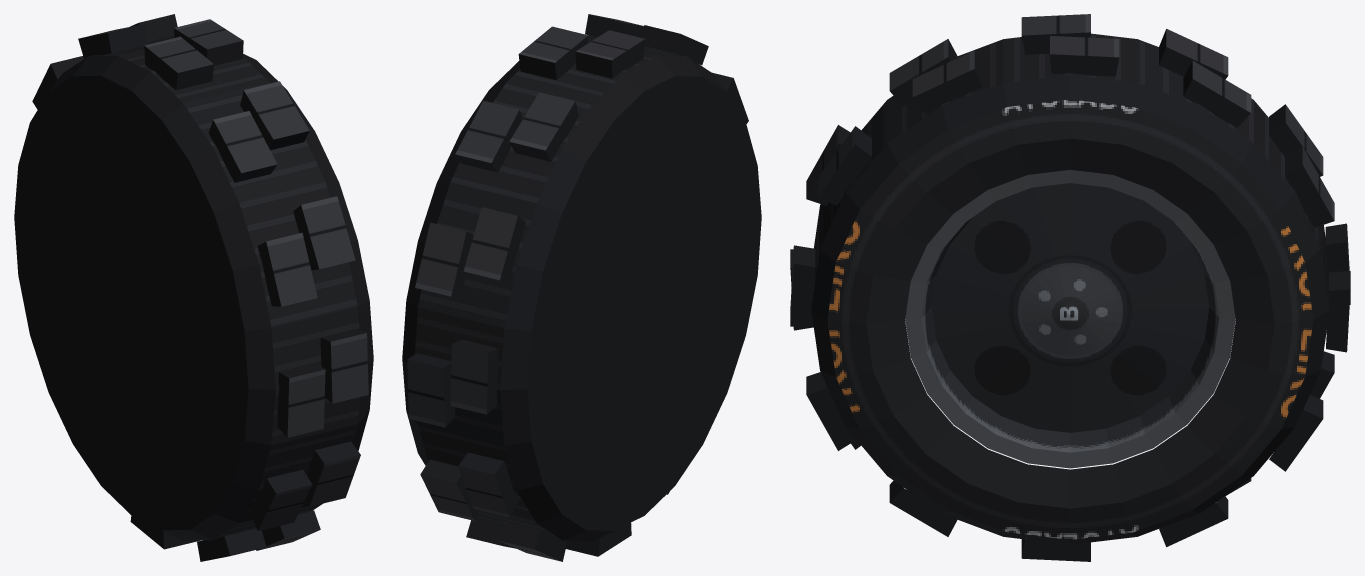
File: bigorna_reforcada_14_com_tropeiro_atolado.glb
3 renders of one model, left to right at view 1: azimuth 30°, elevation 25°; view 2: azimuth 150°, elevation 25°; view 3: azimuth 270°, elevation 25°, orthographic. The views are drawn at different scales.
Visible parts, largest first — view 1: bigorna_reforcada_14_com_tropeiro_atolado; view 2: bigorna_reforcada_14_com_tropeiro_atolado; view 3: bigorna_reforcada_14_com_tropeiro_atolado.
Boxes of the visible parts, bbox=[...] form: bigorna_reforcada_14_com_tropeiro_atolado: bbox=[14, 14, 373, 561]; bigorna_reforcada_14_com_tropeiro_atolado: bbox=[402, 14, 761, 561]; bigorna_reforcada_14_com_tropeiro_atolado: bbox=[790, 14, 1350, 561].
Size of the model in its own units: 0.1918 by 0.6747 by 0.6747.
2 materials, 2 textured.
